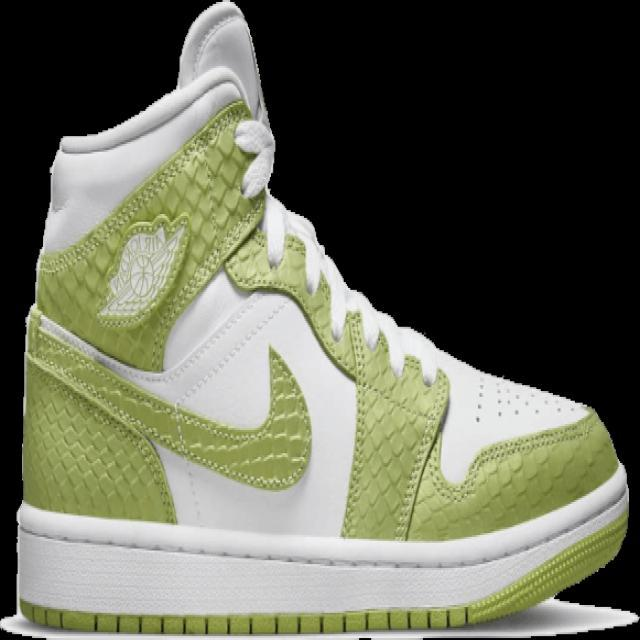J1_InsoleChar: (8, 0, 634, 637)
J1_ShoeLogo: (95, 212, 189, 324)
J1_StitchPattern: (21, 298, 600, 538), (12, 488, 631, 634), (23, 307, 312, 513), (36, 98, 268, 335), (339, 309, 450, 540), (26, 350, 174, 519), (16, 602, 468, 635), (467, 368, 587, 427)
